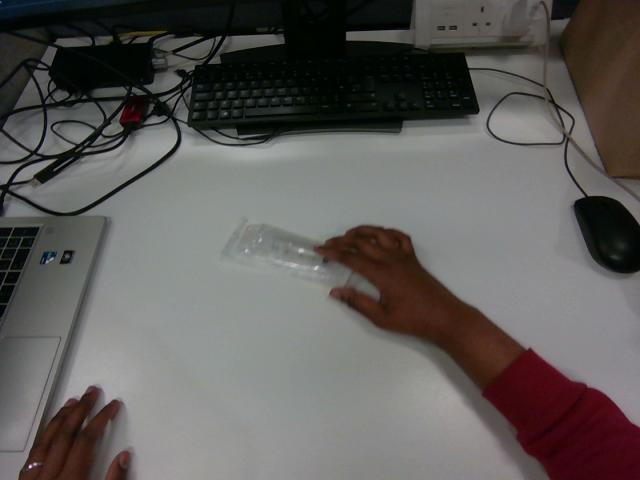syringe: (222, 219, 352, 285)
